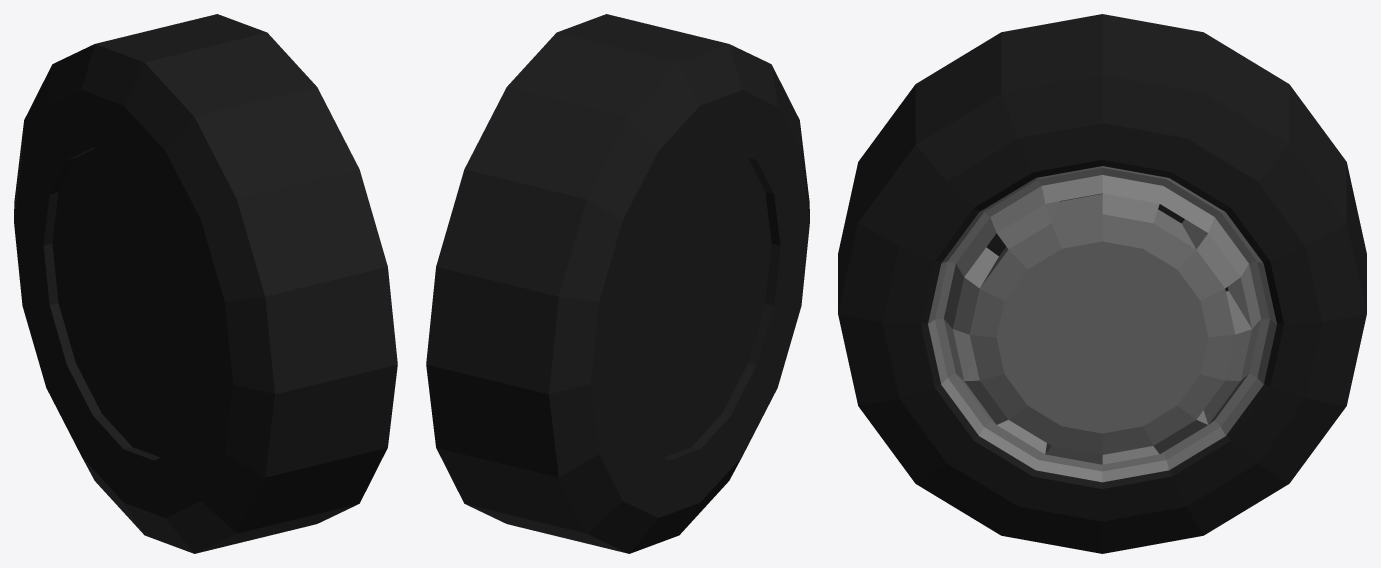
The model's file is WHEEL-LEFT-2.fbx.
3 views of the same model, side by side, from view 1: azimuth 30°, elevation 25°; view 2: azimuth 150°, elevation 25°; view 3: azimuth 270°, elevation 25° (orthographic).
Visible parts, largest first — view 1: BL; view 2: BL; view 3: BL.
Boxes of the visible parts, left/top/right/bottom form: BL: left=14, top=14, right=397, bottom=553; BL: left=426, top=14, right=809, bottom=553; BL: left=838, top=14, right=1366, bottom=553.
Size of the model in its own units: 28.9 by 68.53 by 68.53.
